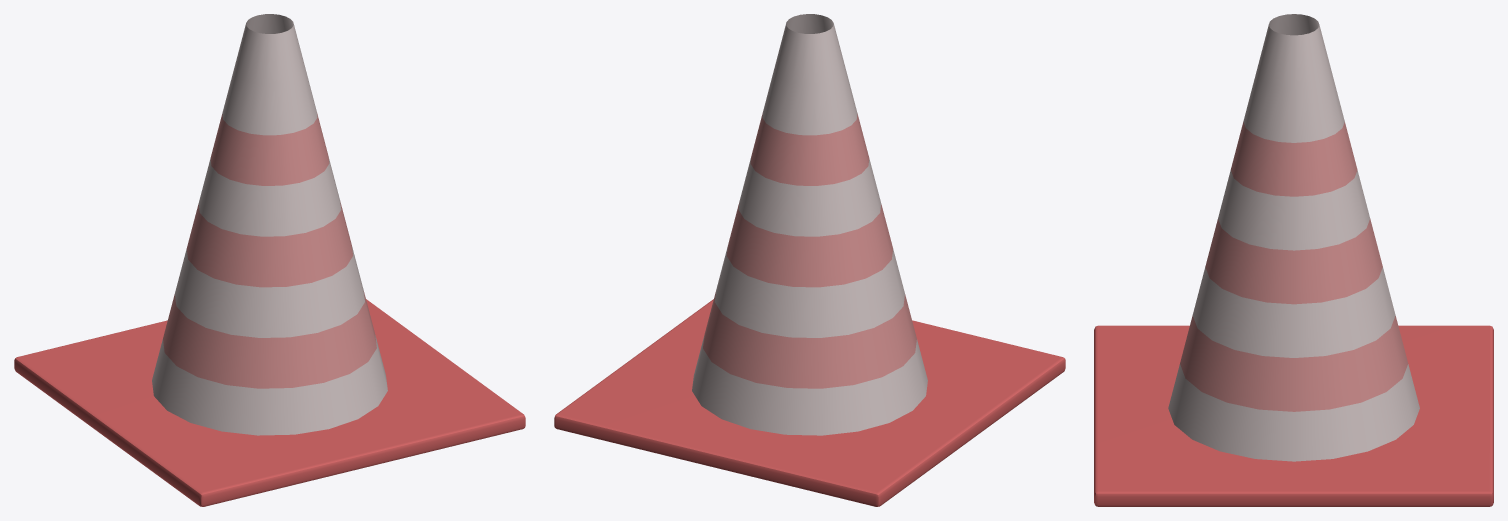
File: cono1.fbx
3 renders of one model, left to right at view 1: azimuth 30°, elevation 25°; view 2: azimuth 150°, elevation 25°; view 3: azimuth 270°, elevation 25°, orthographic. The views are drawn at different scales.
Visible parts, largest first — view 1: pCone1, pCube1; view 2: pCone1, pCube1; view 3: pCone1, pCube1.
Part boxes in pixels (x1,y1,x2,y2): pCone1: (152, 14, 387, 435); pCube1: (14, 299, 525, 506); pCone1: (692, 14, 927, 435); pCube1: (554, 299, 1065, 506); pCone1: (1168, 14, 1419, 461); pCube1: (1094, 325, 1493, 506).
Size of the model in its own units: 2.29 by 2.53 by 2.29.
